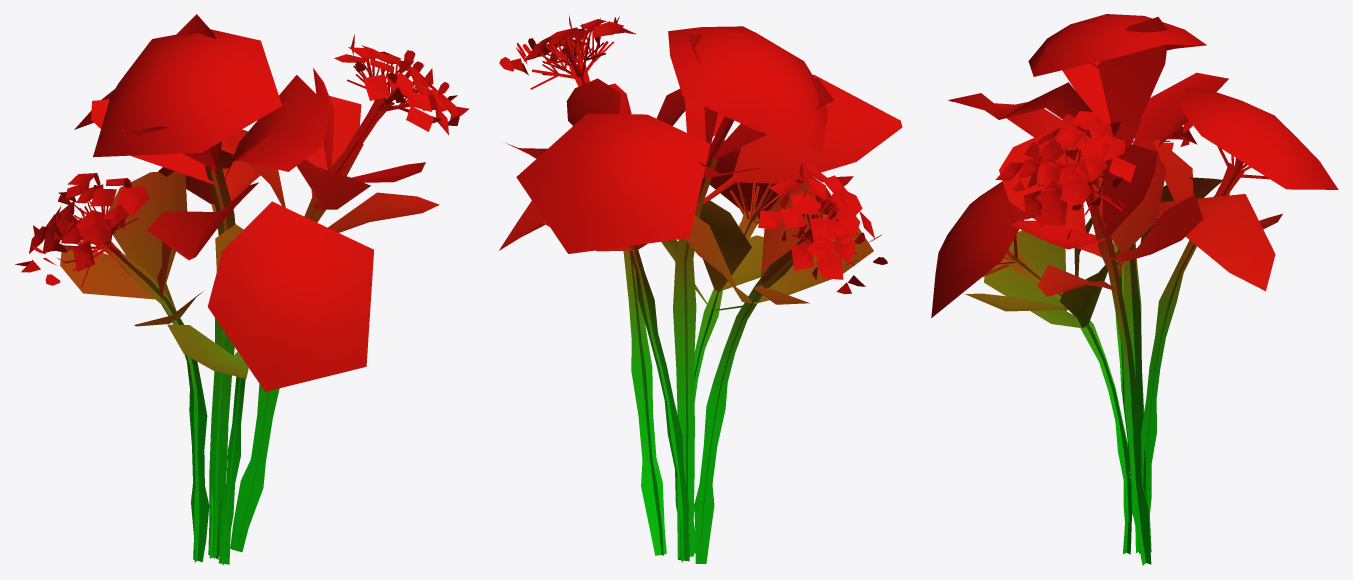
Rendered from Var12_LOD4.fbx.
The picture shows the model from 3 angles, left to right: view 1: azimuth 30°, elevation 25°; view 2: azimuth 150°, elevation 25°; view 3: azimuth 270°, elevation 25°; orthographic projection.
Visible parts, largest first — view 1: _ku34_Var12_LOD4; view 2: _ku34_Var12_LOD4; view 3: _ku34_Var12_LOD4.
Part boxes in pixels (x1=…): _ku34_Var12_LOD4: x1=15, y1=14, x2=469, y2=565; _ku34_Var12_LOD4: x1=499, y1=15, x2=902, y2=563; _ku34_Var12_LOD4: x1=931, y1=14, x2=1338, y2=565.
Size of the model in its own units: 37.41 by 47.87 by 33.27.
